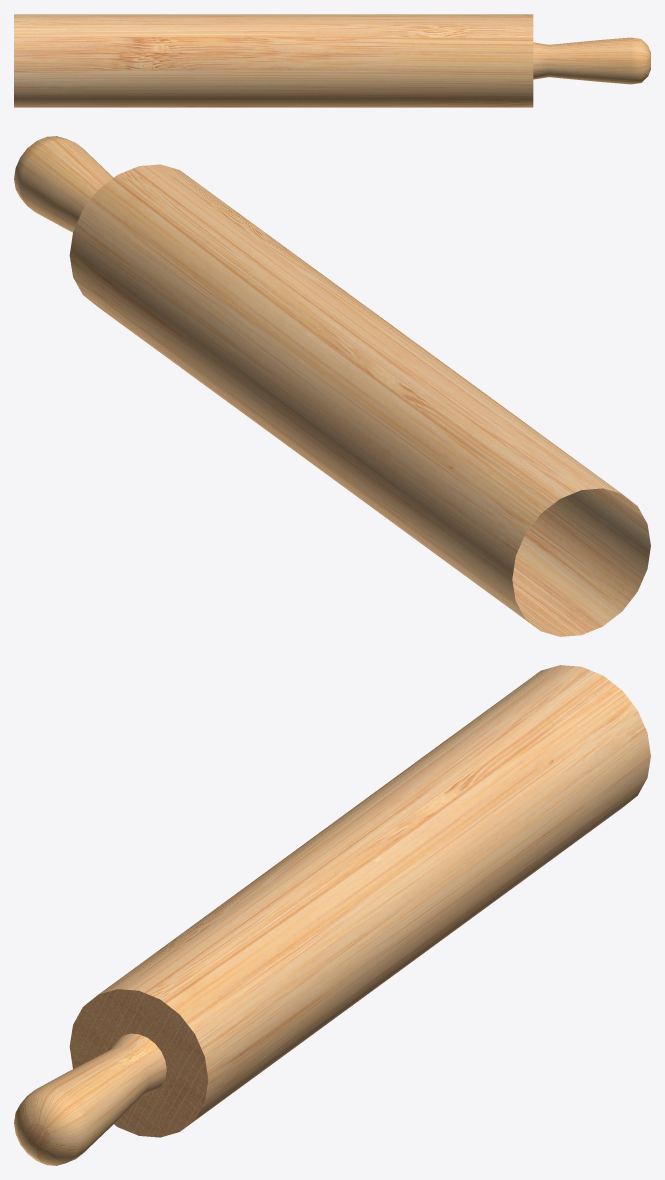
The model's file is RecipeBook_RollingPin.fbx.
3 views of the same model, one above another, from view 1: azimuth 30°, elevation 25°; view 2: azimuth 150°, elevation 25°; view 3: azimuth 270°, elevation 25° (orthographic). The views are drawn at different scales.
Visible parts, largest first — view 1: RecipeBook_RollingPin; view 2: RecipeBook_RollingPin; view 3: RecipeBook_RollingPin.
Part boxes in pixels (<box>): RecipeBook_RollingPin: <box>14,14,650,107</box>; RecipeBook_RollingPin: <box>14,136,650,636</box>; RecipeBook_RollingPin: <box>14,665,650,1165</box>.
Bounding box in the file's own units: 6.95 × 1.12 × 4.47.
Materials: 1 (1 with a texture image).
